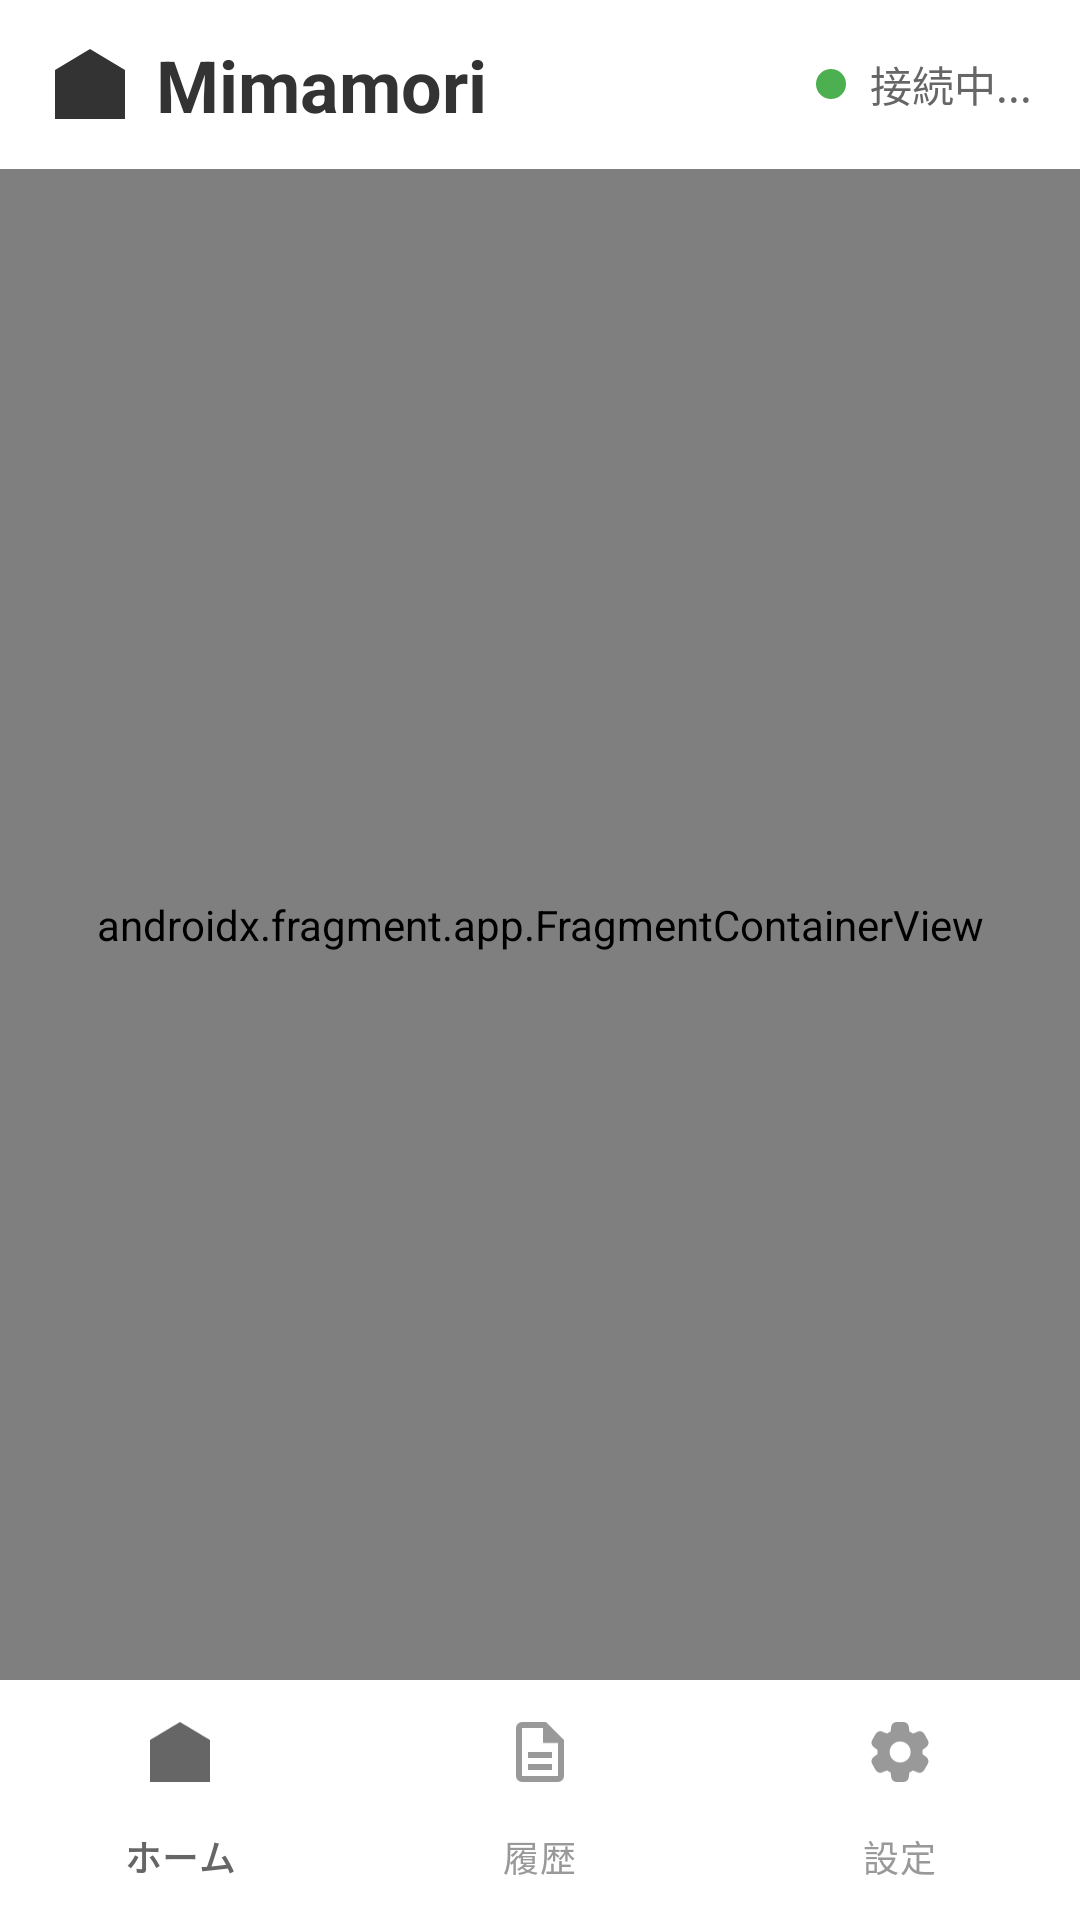

Screen size 1080x1920. Icon name, then its center in pixels as (x,y):
アプリアイコン: (90,84)
